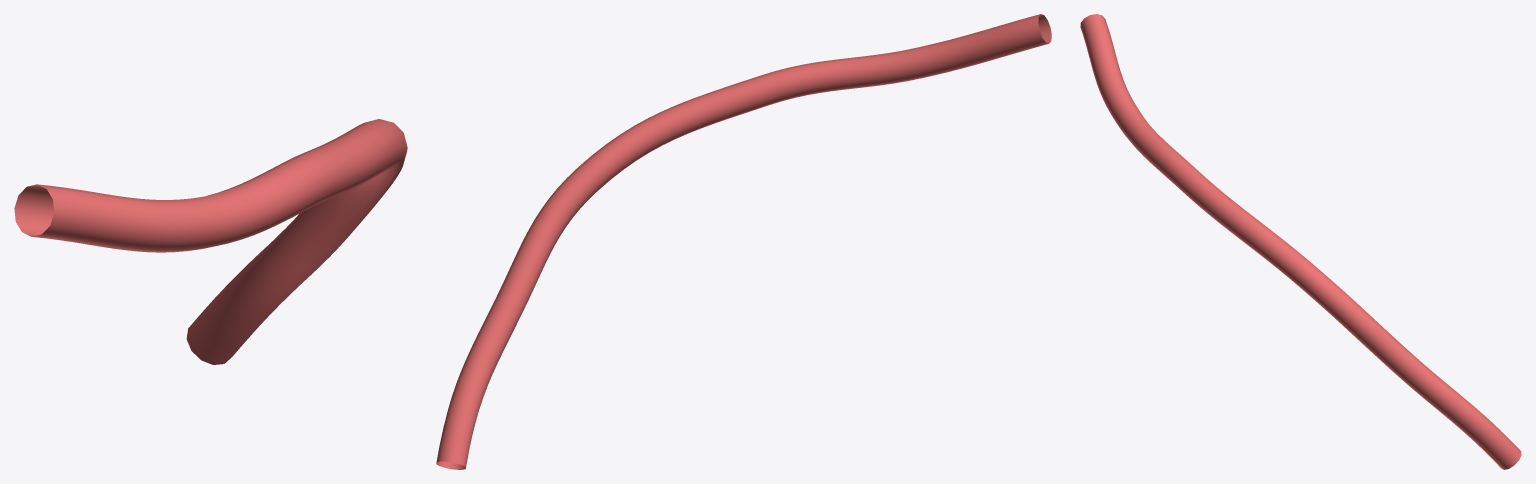
File: Arcuate_artery.l_BezierCurve.181.glb
3 views of the same model, side by side, from view 1: azimuth 30°, elevation 25°; view 2: azimuth 150°, elevation 25°; view 3: azimuth 270°, elevation 25° (orthographic). The views are drawn at different scales.
Parts seen in each view (by area): view 1: Arcuate_artery.l_BezierCurve.181; view 2: Arcuate_artery.l_BezierCurve.181; view 3: Arcuate_artery.l_BezierCurve.181.
Boxes of the visible parts, x1,y1,x2,y2 form: Arcuate_artery.l_BezierCurve.181: (14, 119, 407, 364); Arcuate_artery.l_BezierCurve.181: (436, 14, 1051, 469); Arcuate_artery.l_BezierCurve.181: (1080, 14, 1521, 469).
Bounding box in the file's own units: 0.0308 × 0.0285 × 0.0368.
